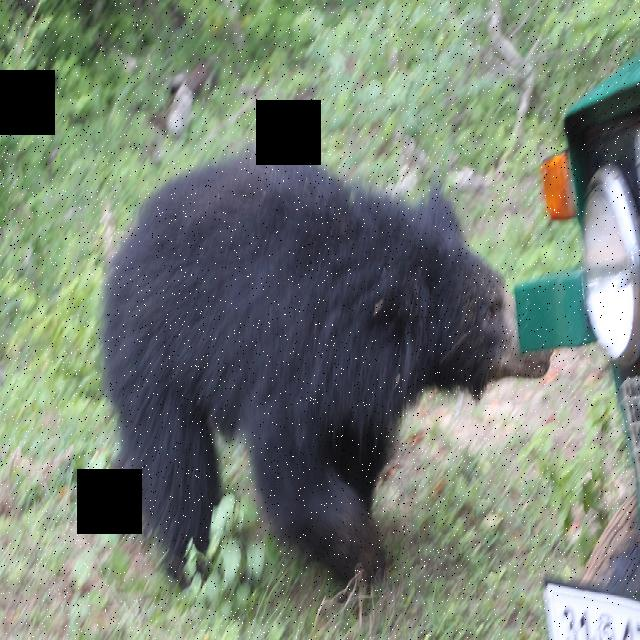Bear: (92, 131, 552, 593)
